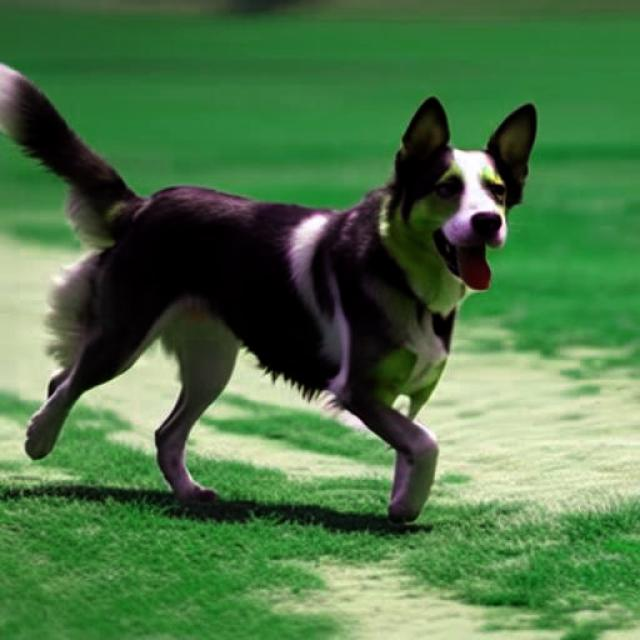Dog: (0, 62, 538, 524)
